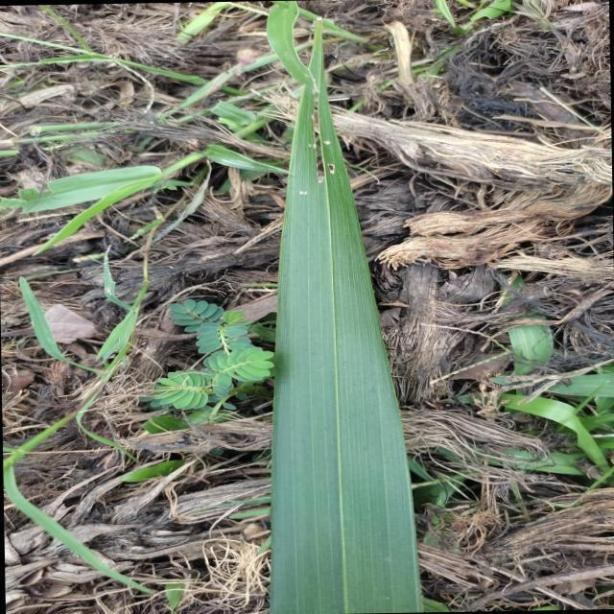Boron: (272, 6, 422, 614)
